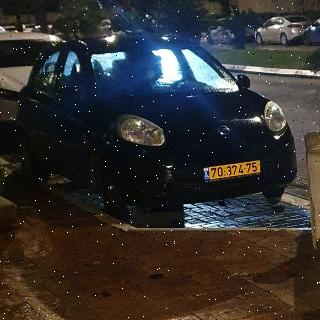LicensePlate: (208, 159, 262, 180)
